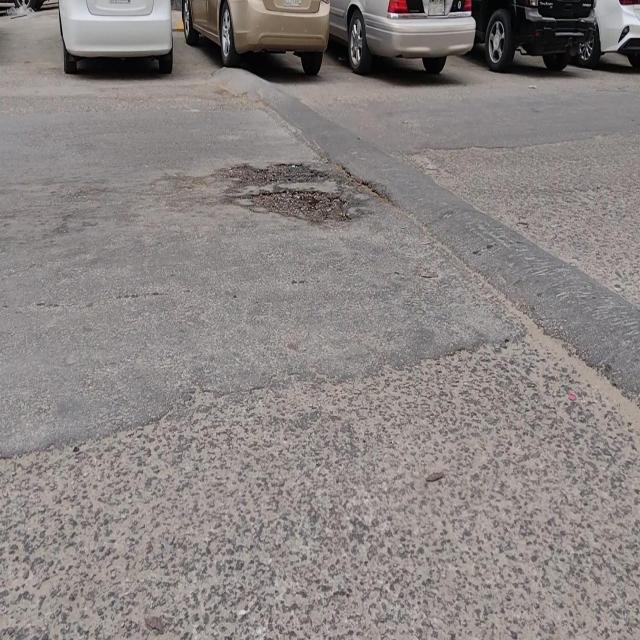Pothole: (230, 156, 349, 226)
